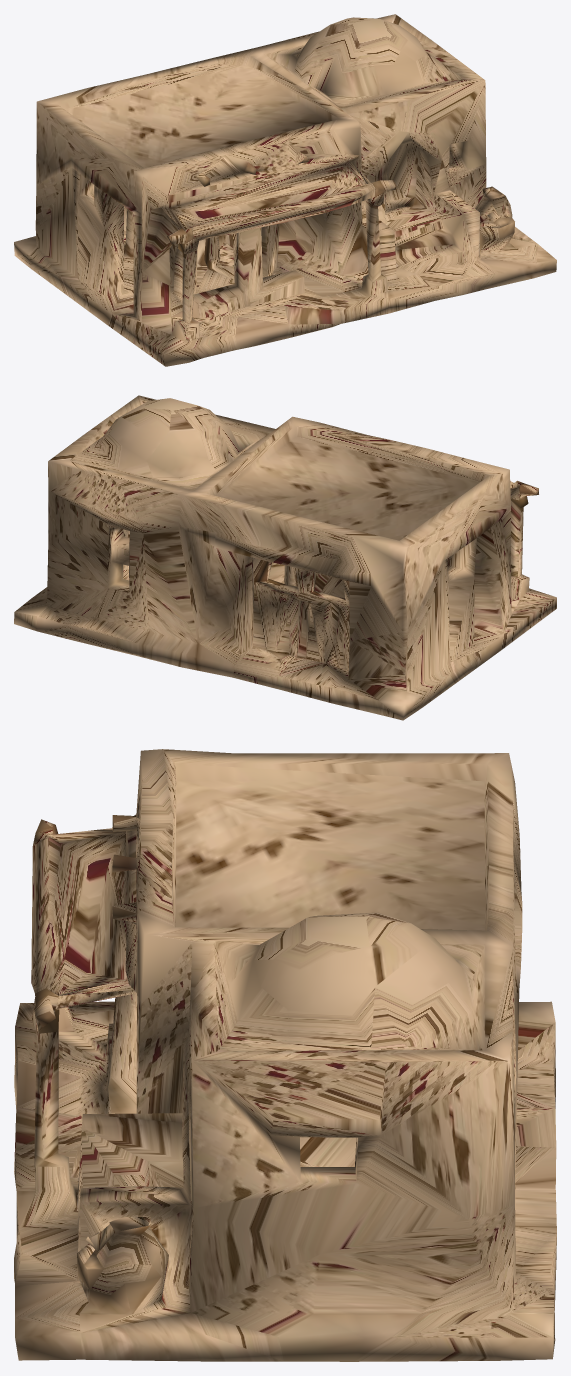
Rendered from Desert_Adobe_Courtyar.glb.
The picture shows the model from 3 angles, top to bottom: view 1: azimuth 30°, elevation 25°; view 2: azimuth 150°, elevation 25°; view 3: azimuth 270°, elevation 25°; orthographic projection. The views are drawn at different scales.
Visible parts, largest first — view 1: Desert_Adobe_Courtyar; view 2: Desert_Adobe_Courtyar; view 3: Desert_Adobe_Courtyar.
Boxes of the visible parts, left/top/right/bottom form: Desert_Adobe_Courtyar: left=14, top=14, right=556, bottom=366; Desert_Adobe_Courtyar: left=14, top=395, right=556, bottom=720; Desert_Adobe_Courtyar: left=14, top=749, right=556, bottom=1361.
Bounding box in the file's own units: 1.89 × 0.9391 × 1.29.
Materials: 1 (1 with a texture image).
